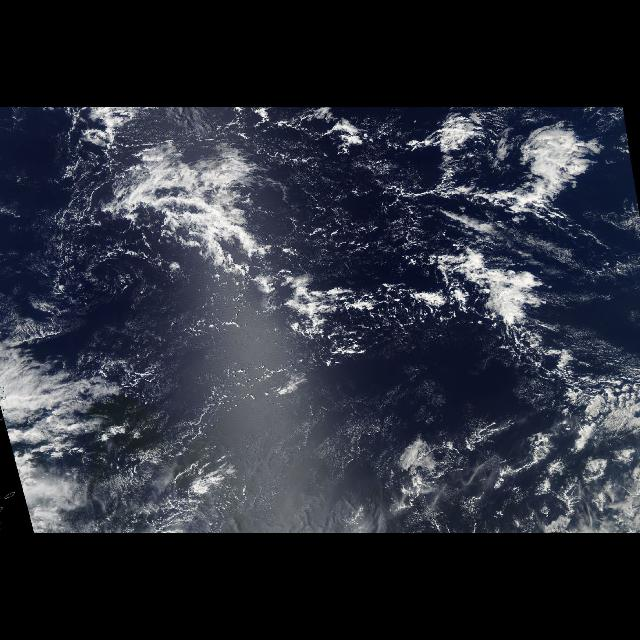Flower: (385, 394, 639, 526)
Gravel: (253, 112, 633, 374)
